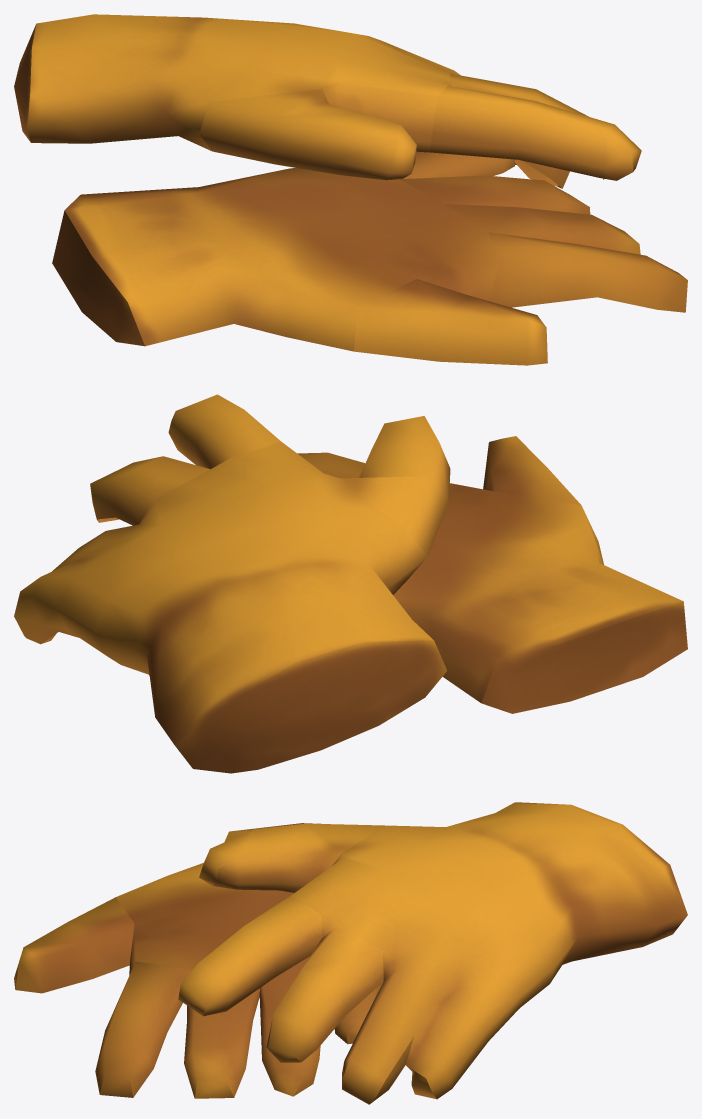
The model's file is S_GardenThing_02.fbx.
3 views of the same model, one above another, from view 1: azimuth 30°, elevation 25°; view 2: azimuth 150°, elevation 25°; view 3: azimuth 270°, elevation 25° (orthographic). The views are drawn at different scales.
Parts seen in each view (by area): view 1: S_GardenThing_02; view 2: S_GardenThing_02; view 3: S_GardenThing_02.
Boxes of the visible parts, bbox=[...] form: S_GardenThing_02: bbox=[14, 14, 687, 365]; S_GardenThing_02: bbox=[14, 394, 687, 773]; S_GardenThing_02: bbox=[14, 802, 687, 1104].
Size of the model in its own units: 58.6 by 19.25 by 75.24.
